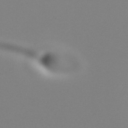normal: (1, 38, 38, 59)
